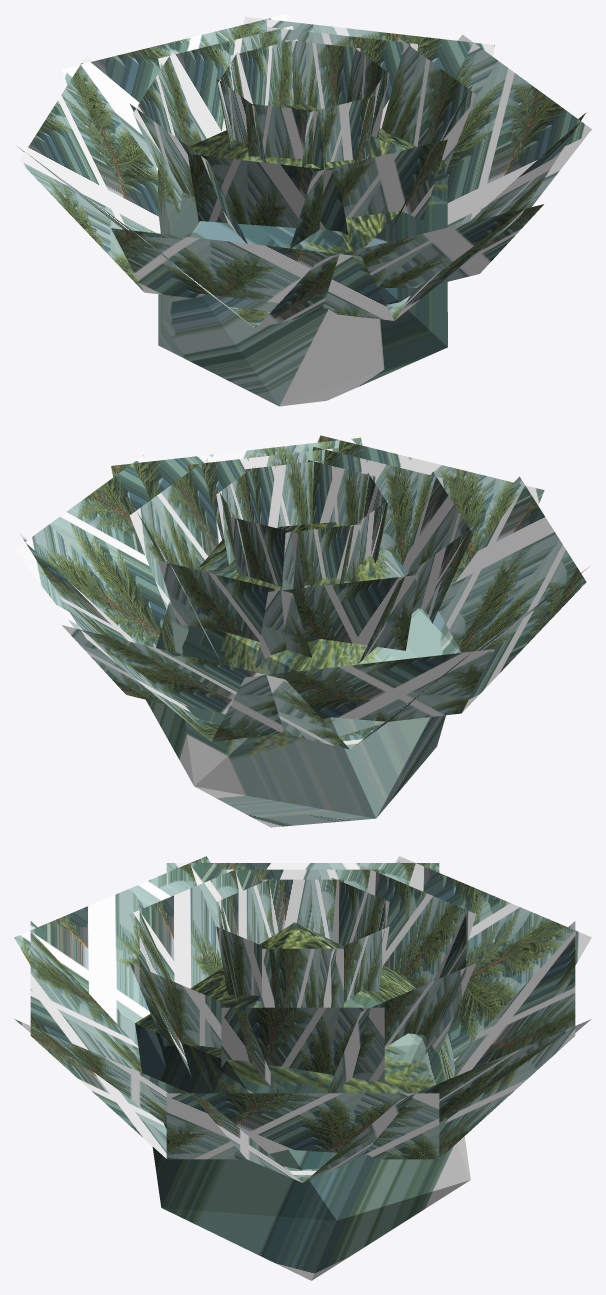
The model's file is plants.fbx.
The picture shows the model from 3 angles, top to bottom: view 1: azimuth 30°, elevation 25°; view 2: azimuth 150°, elevation 25°; view 3: azimuth 270°, elevation 25°; orthographic projection. The views are drawn at different scales.
Visible parts, largest first — view 1: Icosphere; view 2: Icosphere; view 3: Icosphere.
Boxes of the visible parts, x1,y1,x2,y2 form: Icosphere: (17,14,591,406); Icosphere: (14,435,589,827); Icosphere: (14,856,591,1280).
Bounding box in the file's own units: 424 × 285 × 424.
